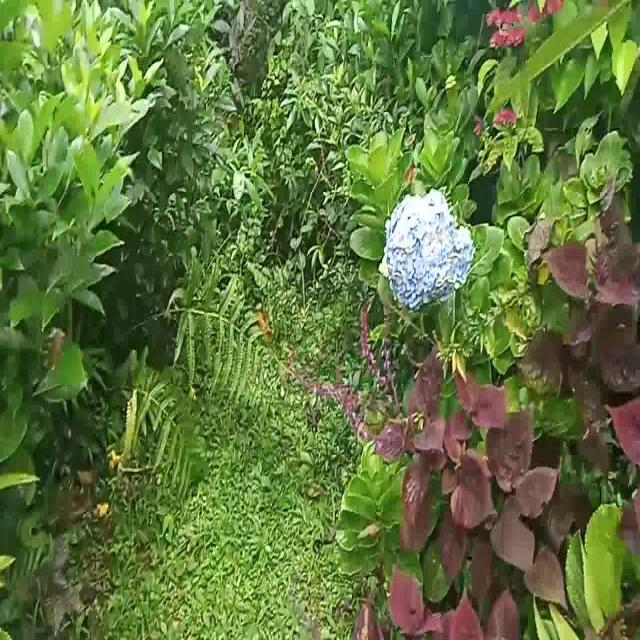Flower: (380, 190, 476, 302)
